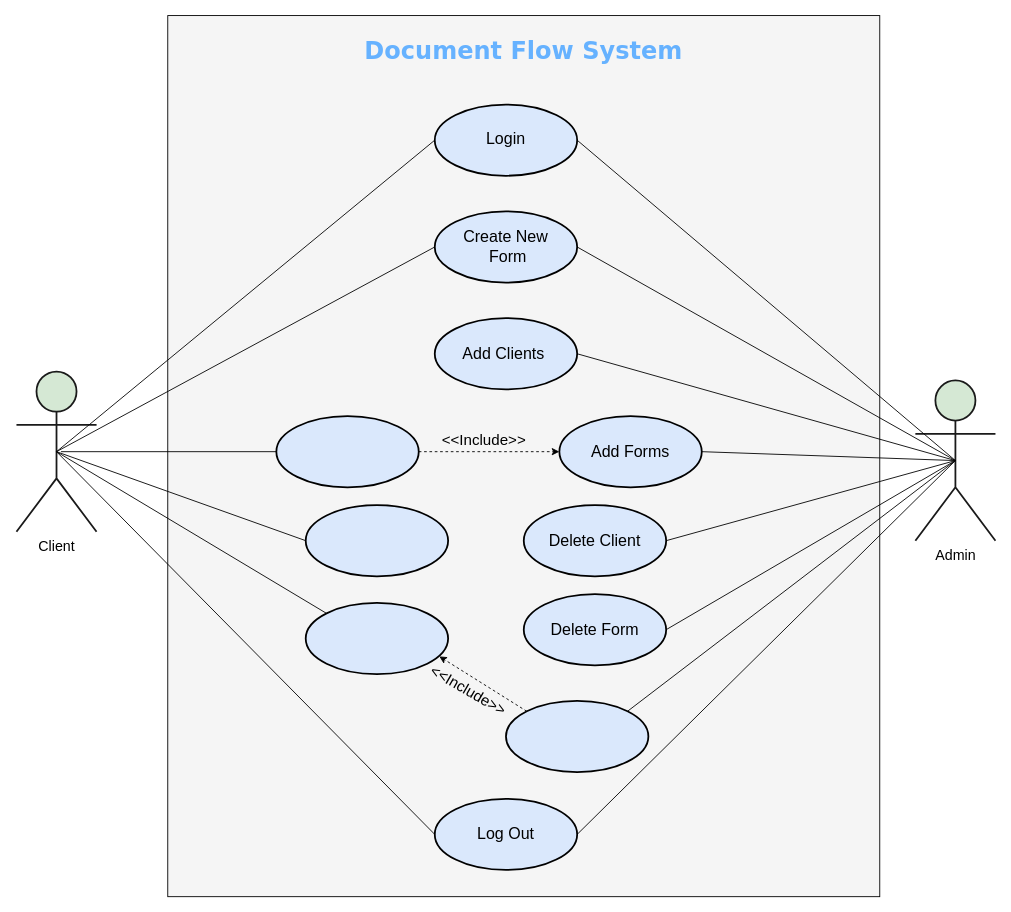
The diagram is 1011 pixels wide and 912 high, and some of its shapes have lost their labels. Here are the shapes that lost their labels. From the top down, the centre of each, then its label:
At point (347, 451): "Customise Form".
At point (376, 540): "ChatBot".
At point (376, 638): "Submit Form".
At point (577, 736): "Respond Request".
